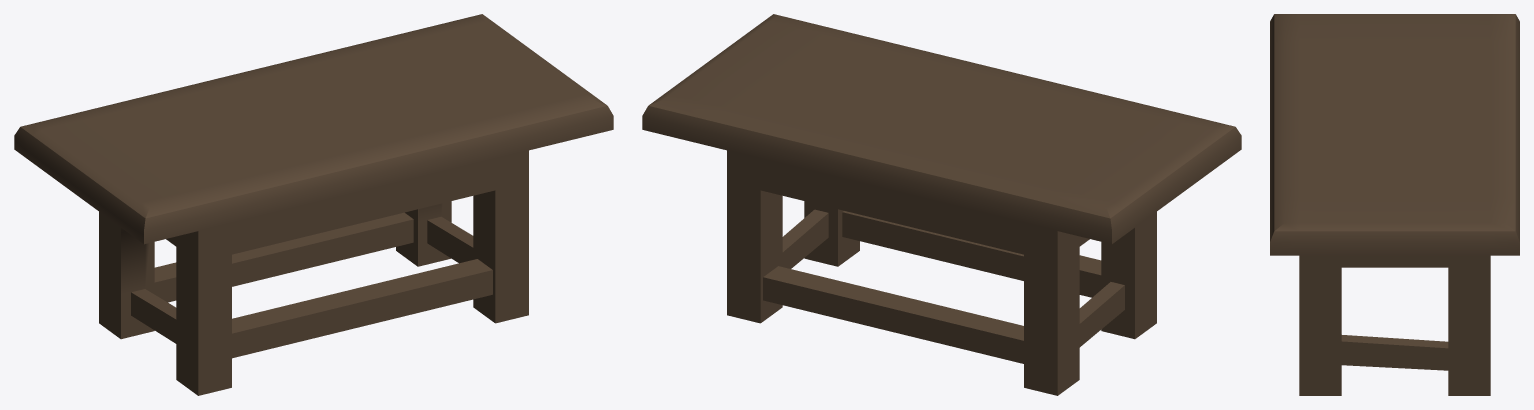
File: mesa.fbx
The picture shows the model from 3 angles, left to right: view 1: azimuth 30°, elevation 25°; view 2: azimuth 150°, elevation 25°; view 3: azimuth 270°, elevation 25°; orthographic projection. The views are drawn at different scales.
Visible parts, largest first — view 1: pCube2; view 2: pCube2; view 3: pCube2.
Part boxes in pixels (<box>): pCube2: <box>14,14,613,395</box>; pCube2: <box>642,14,1241,395</box>; pCube2: <box>1270,14,1519,395</box>.
Bounding box in the file's own units: 7.39 × 3.11 × 3.53.
